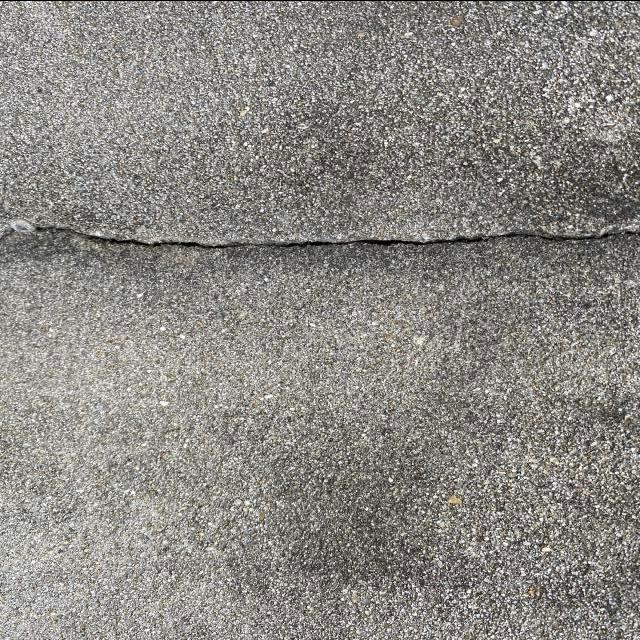SurfaceCrack: (1, 173, 640, 302)
